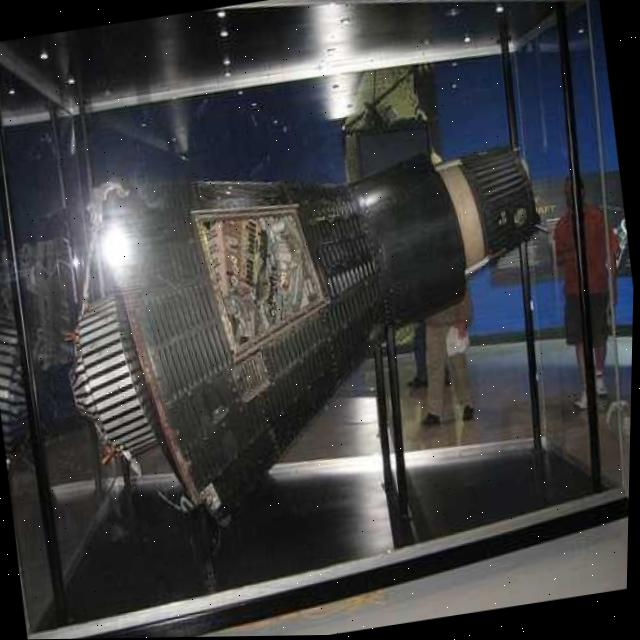missile: (44, 103, 583, 549)
